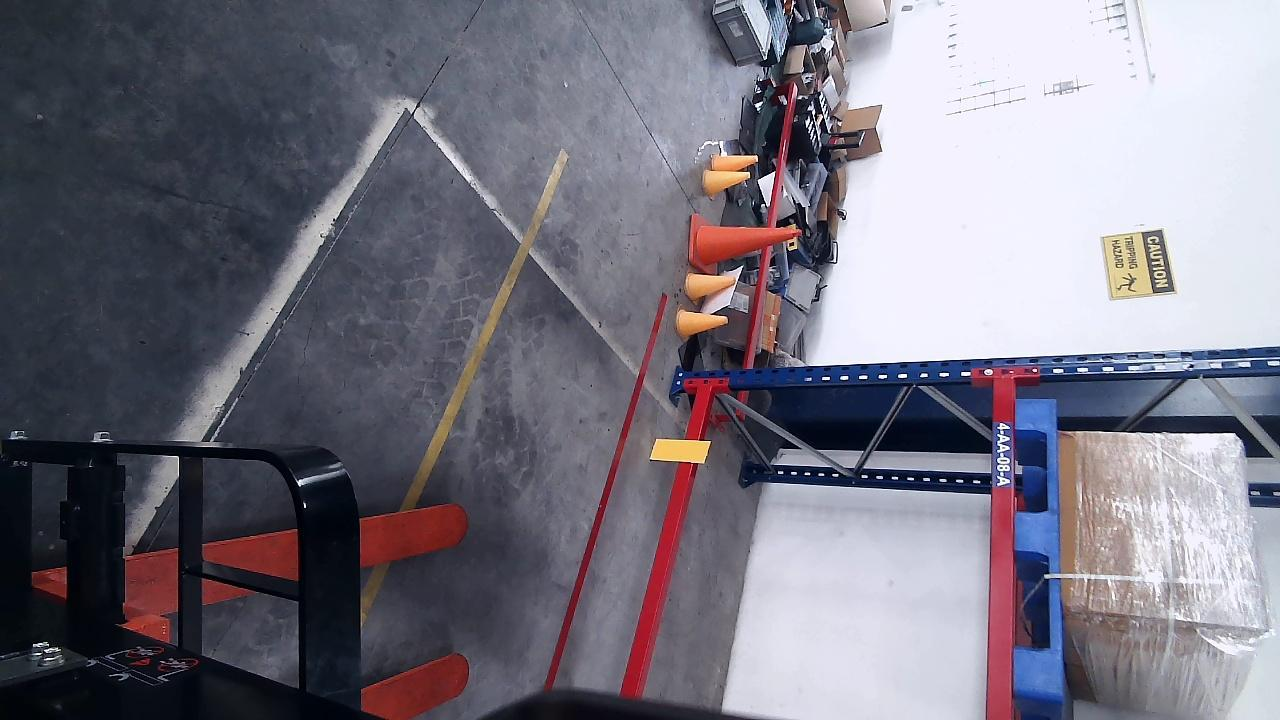h_rack: (622, 388, 710, 698), (986, 378, 1015, 720)
orange_strip: (648, 438, 713, 463)
red_line: (541, 292, 670, 690)
small_pallet: (1012, 398, 1061, 694)
yellow_line: (357, 147, 572, 628)
